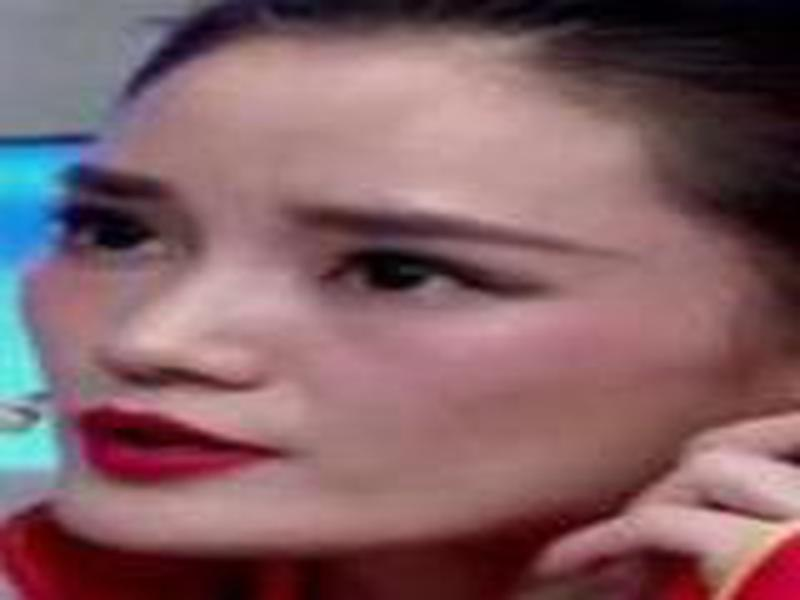without_mask: (16, 48, 755, 553)
